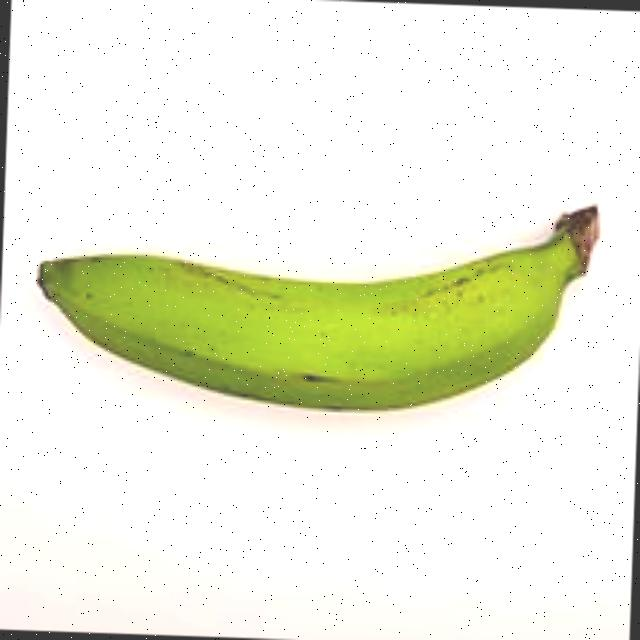Raw: (18, 169, 626, 421)
